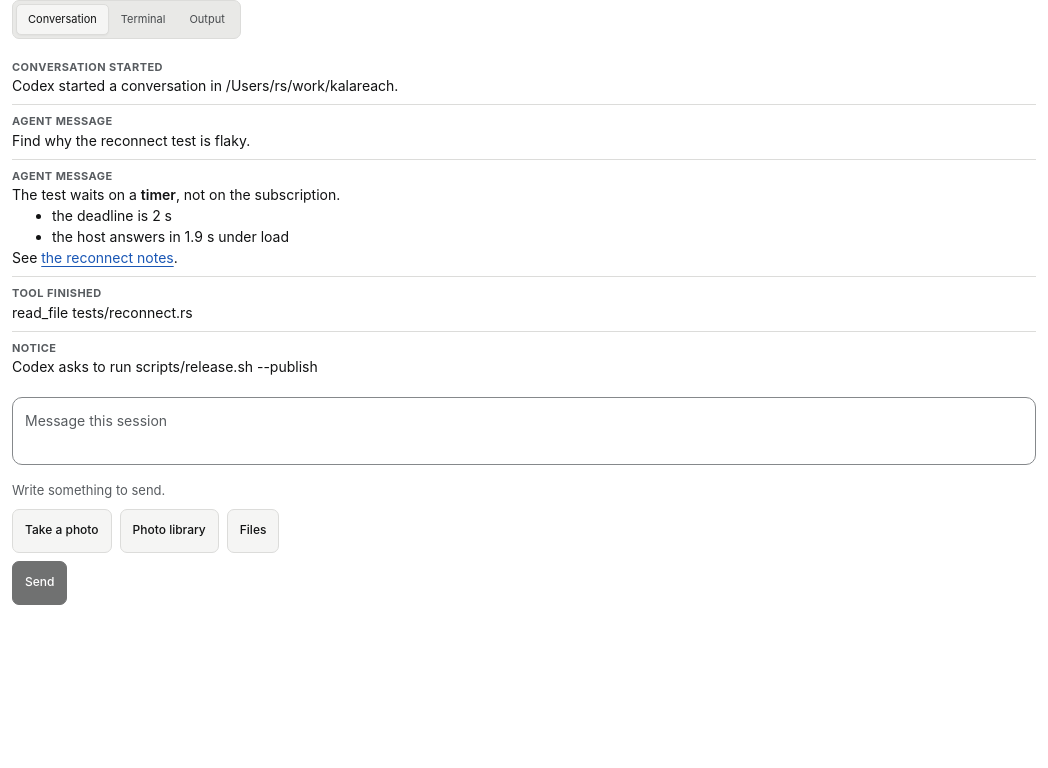
Test: the phone's raw terminal view (KR-REQ-08.02, 13.18) › draws the screen as text, each piece at its column, in the same words as the desktop
This screenshot has width=1048, height=768.
Click the tab "Terminal".
click(143, 19)  # box [109, 4, 177, 34]
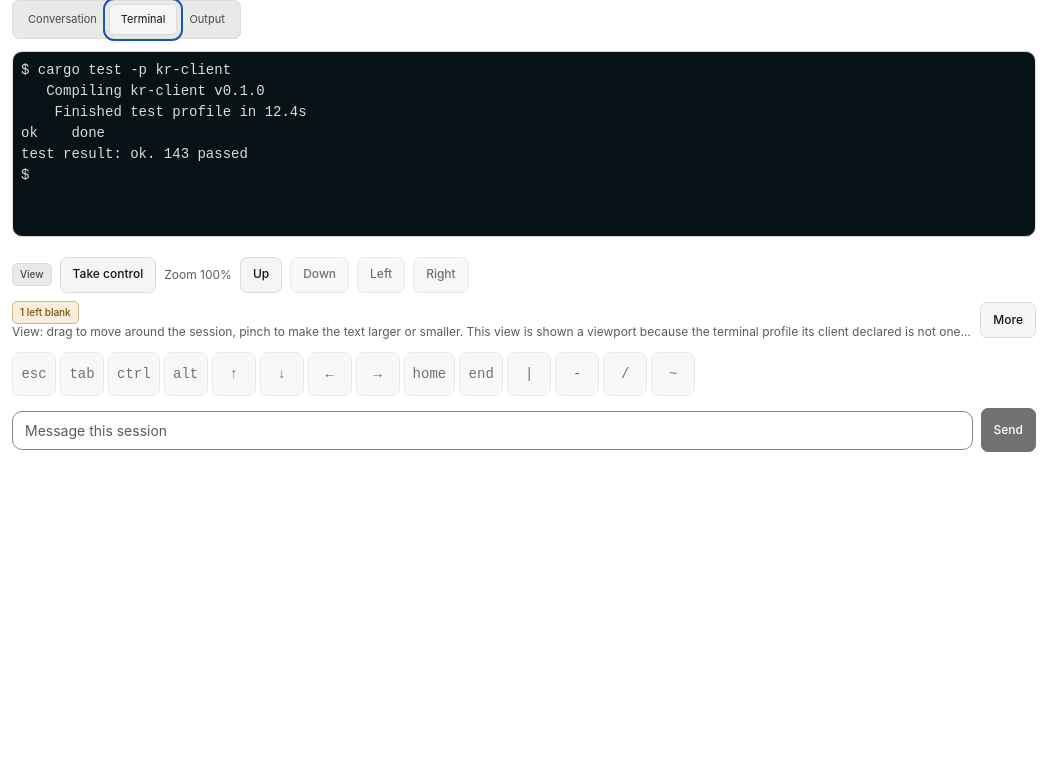
expect the text with test id "terminal-presentation" shows "the terminal profile its client declared is not one this build has qualified": met, box [467, 324, 972, 338]
